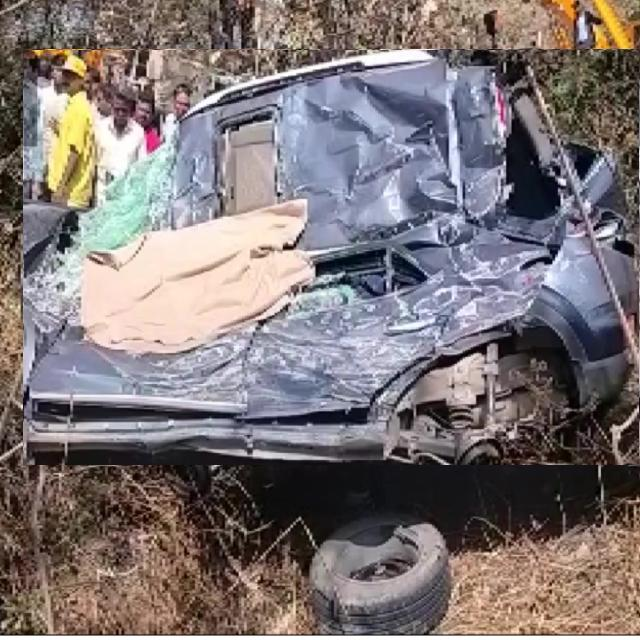accident: (24, 50, 639, 465), (36, 50, 640, 460)
